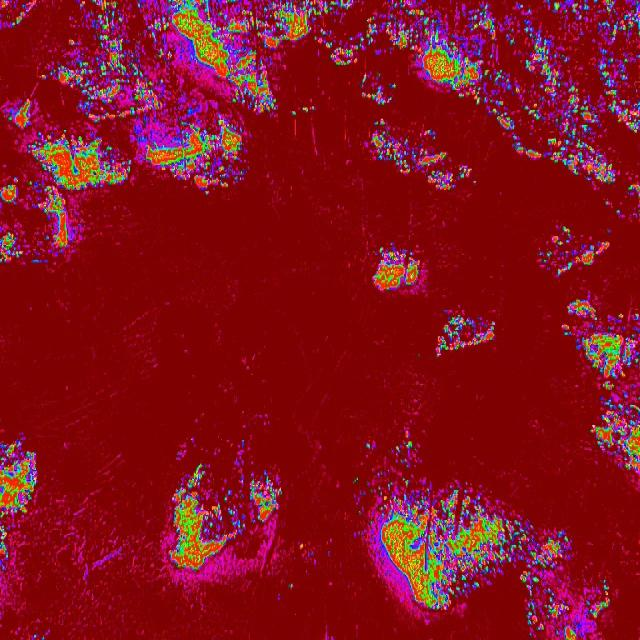fire: (60, 0, 272, 178), (272, 0, 640, 85), (360, 461, 525, 619), (0, 97, 132, 265), (167, 464, 285, 587), (565, 297, 640, 485), (474, 84, 640, 158), (526, 525, 612, 640), (365, 118, 470, 192), (0, 434, 37, 585), (529, 222, 609, 277), (429, 308, 501, 363), (362, 248, 428, 301), (557, 157, 640, 198)
